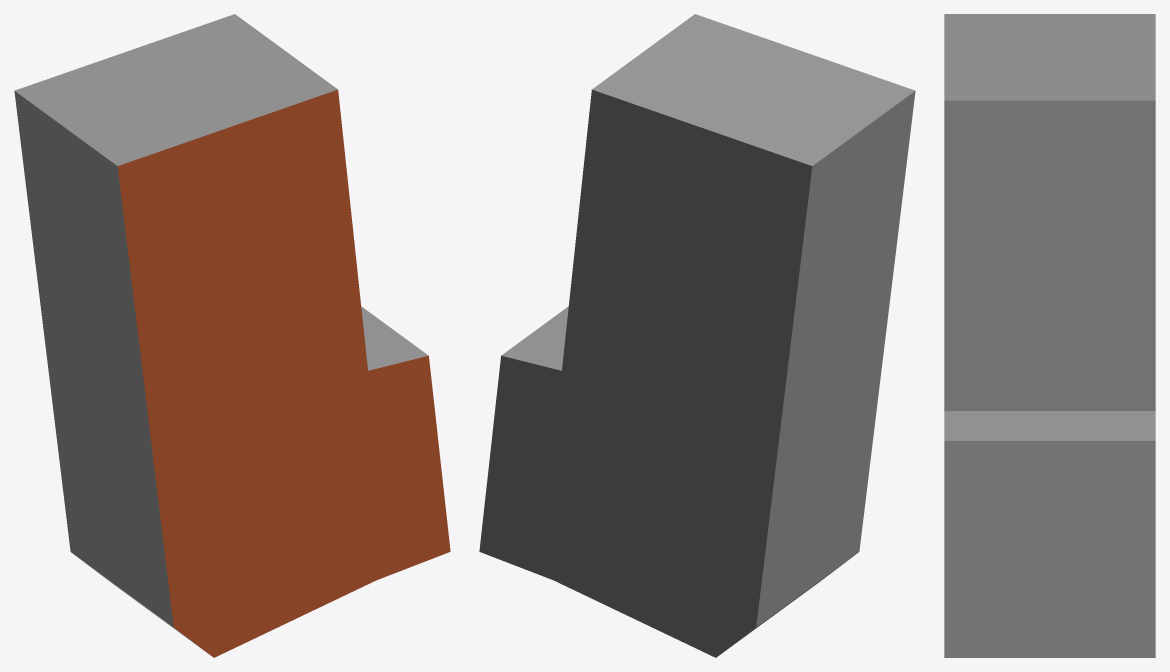
Rendered from construction_4274_assumed_A_Casa_h6m.obj.
3 views of the same model, side by side, from view 1: azimuth 30°, elevation 25°; view 2: azimuth 150°, elevation 25°; view 3: azimuth 270°, elevation 25° (orthographic). The views are drawn at different scales.
Parts seen in each view (by area): view 1: construction_4274_assumed_A_Casa; view 2: construction_4274_assumed_A_Casa; view 3: construction_4274_assumed_A_Casa.
Part boxes in pixels (box(x1,y1,x2,y2)): construction_4274_assumed_A_Casa: box(14, 14, 450, 657); construction_4274_assumed_A_Casa: box(479, 14, 915, 657); construction_4274_assumed_A_Casa: box(944, 14, 1155, 657).
Size of the model in its own units: 11.18 by 17.26 by 6.
